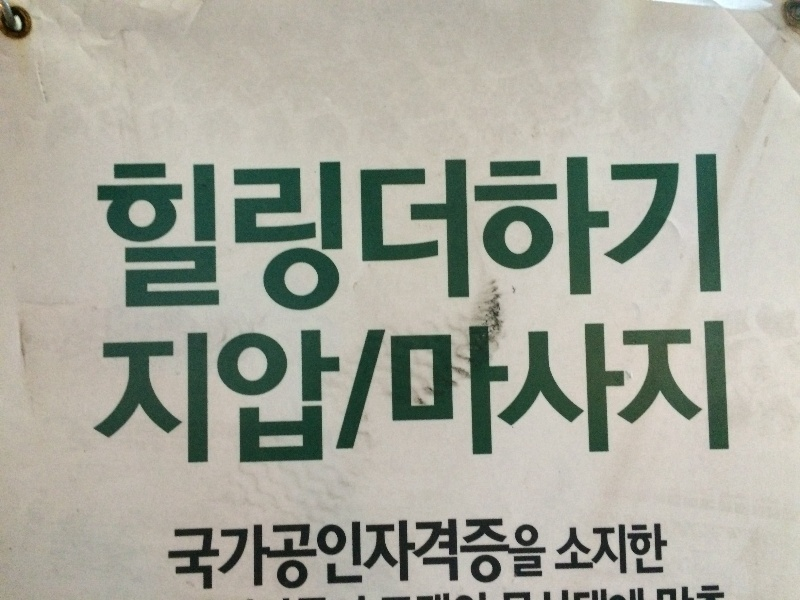text: (97, 151, 112, 320), (113, 151, 128, 320), (129, 151, 144, 320), (145, 151, 160, 320), (161, 151, 176, 320), (177, 151, 192, 320), (193, 151, 208, 320), (209, 151, 224, 320), (225, 151, 240, 320), (241, 151, 256, 320), (257, 151, 272, 320), (273, 151, 288, 320), (289, 151, 304, 320), (305, 151, 320, 320), (321, 151, 336, 320), (337, 151, 352, 320), (353, 151, 368, 320), (369, 151, 384, 320), (385, 151, 400, 320), (401, 151, 416, 320), (417, 151, 432, 320), (433, 151, 448, 320), (449, 151, 464, 320), (465, 151, 480, 320), (481, 151, 496, 320), (497, 151, 512, 320), (513, 151, 528, 320), (529, 151, 544, 320), (545, 151, 560, 320), (561, 151, 576, 320), (577, 151, 592, 320), (593, 151, 608, 320), (609, 151, 624, 320), (625, 151, 640, 320), (641, 151, 656, 320), (657, 151, 672, 320), (673, 151, 688, 320), (689, 151, 704, 320), (705, 151, 720, 320), (113, 318, 128, 469), (129, 318, 144, 469), (145, 318, 160, 469), (161, 318, 176, 469), (177, 318, 192, 469), (193, 318, 208, 469), (209, 318, 224, 469), (225, 318, 240, 469), (241, 318, 256, 469), (257, 318, 272, 469), (273, 318, 288, 469), (289, 318, 304, 469), (305, 318, 320, 469), (321, 318, 336, 469), (337, 318, 352, 469), (353, 318, 368, 469), (369, 318, 384, 469), (385, 318, 400, 469), (401, 318, 416, 469), (417, 318, 432, 469), (433, 318, 448, 469), (449, 318, 464, 469), (465, 318, 480, 469), (481, 318, 496, 469), (497, 318, 512, 469), (513, 318, 528, 469), (529, 318, 544, 469), (545, 318, 560, 469), (561, 318, 576, 469), (577, 318, 592, 469), (593, 318, 608, 469), (609, 318, 624, 469), (625, 318, 640, 469), (641, 318, 656, 469), (657, 318, 672, 469), (673, 318, 688, 469), (689, 318, 704, 469), (705, 318, 720, 469), (721, 318, 732, 469), (102, 318, 112, 469), (177, 515, 192, 594), (193, 515, 208, 594), (209, 515, 224, 594), (225, 515, 240, 594), (241, 515, 256, 594), (257, 515, 272, 594), (273, 515, 288, 594), (289, 515, 304, 594), (305, 515, 320, 594), (321, 515, 336, 594), (337, 515, 352, 594), (353, 515, 368, 594), (369, 515, 384, 594), (385, 515, 400, 594), (401, 515, 416, 594), (417, 515, 432, 594), (433, 515, 448, 594), (449, 515, 464, 594), (465, 515, 480, 594), (481, 515, 496, 594), (497, 515, 512, 594), (513, 515, 528, 594), (529, 515, 544, 594), (721, 151, 726, 320), (577, 522, 592, 575), (593, 522, 608, 575), (609, 522, 624, 575), (625, 522, 640, 575), (641, 522, 656, 575), (562, 522, 576, 575), (168, 515, 176, 594), (657, 522, 668, 575), (545, 515, 550, 594), (513, 586, 528, 600), (529, 586, 544, 600), (545, 586, 560, 600), (561, 586, 576, 600), (577, 586, 592, 600), (593, 586, 608, 600), (609, 586, 624, 600), (625, 586, 640, 600), (641, 586, 656, 600), (657, 586, 672, 600), (673, 586, 688, 600), (689, 586, 704, 600), (705, 586, 720, 600), (504, 586, 512, 600), (721, 586, 728, 600)
